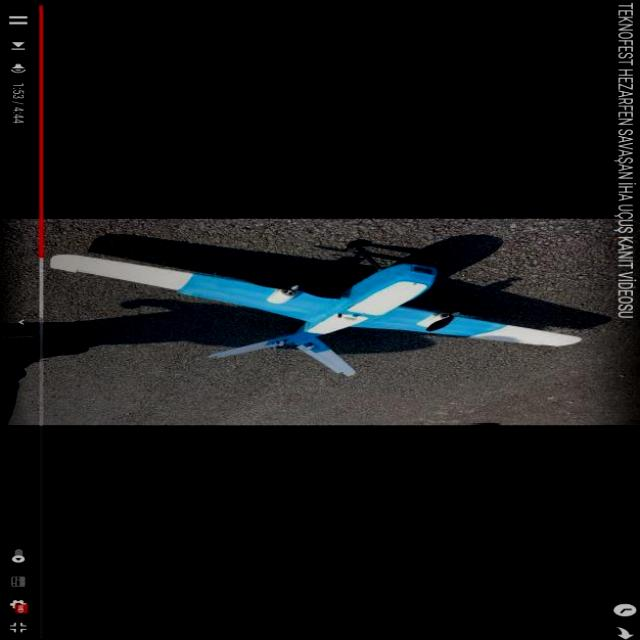plane: (50, 245, 589, 378)
